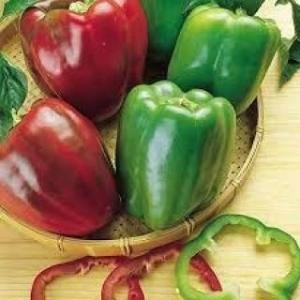bell_pepper: (108, 76, 238, 232), (4, 95, 118, 250), (17, 0, 143, 130), (171, 4, 281, 116)
